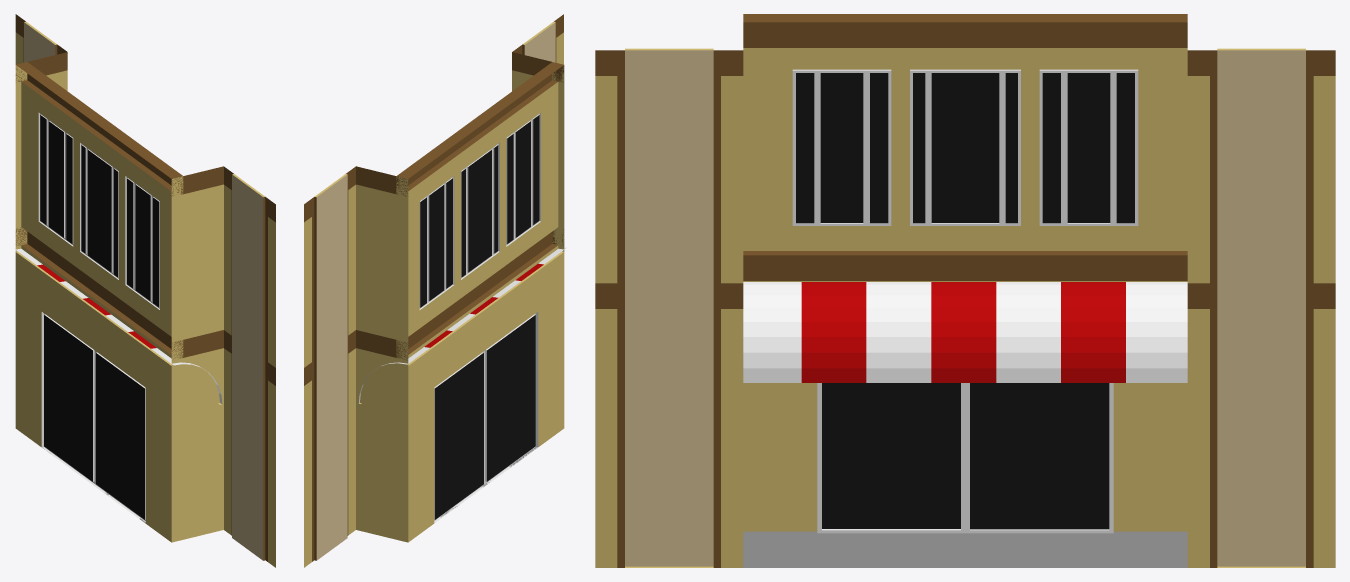
File: House5.fbx
3 renders of one model, left to right at view 1: azimuth 30°, elevation 25°; view 2: azimuth 150°, elevation 25°; view 3: azimuth 270°, elevation 25°, orthographic. The views are drawn at different scales.
Visible parts, largest first — view 1: Plane; view 2: Plane; view 3: Plane.
Part boxes in pixels (x1,y1,x2,y2): Plane: (14, 14, 275, 567); Plane: (304, 14, 566, 567); Plane: (595, 14, 1335, 567).
Bounding box in the file's own units: 163 × 1080 × 1400.
